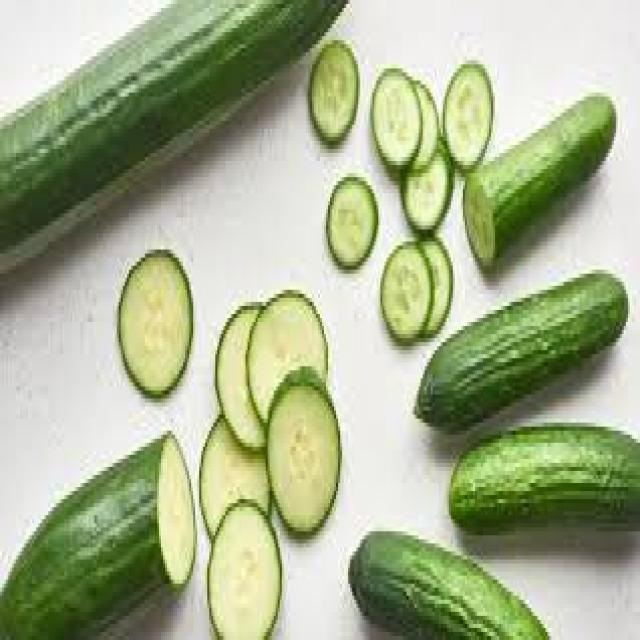Pickle: (0, 1, 346, 271), (415, 273, 627, 429), (464, 97, 615, 266), (349, 533, 546, 639), (452, 427, 640, 531), (267, 367, 341, 534), (120, 253, 193, 394), (249, 295, 326, 421), (209, 505, 280, 639), (200, 417, 267, 536), (216, 307, 265, 449), (385, 243, 453, 343), (309, 40, 359, 144), (444, 63, 493, 169), (373, 70, 420, 169), (401, 143, 453, 231), (327, 177, 376, 267), (411, 80, 439, 169)
